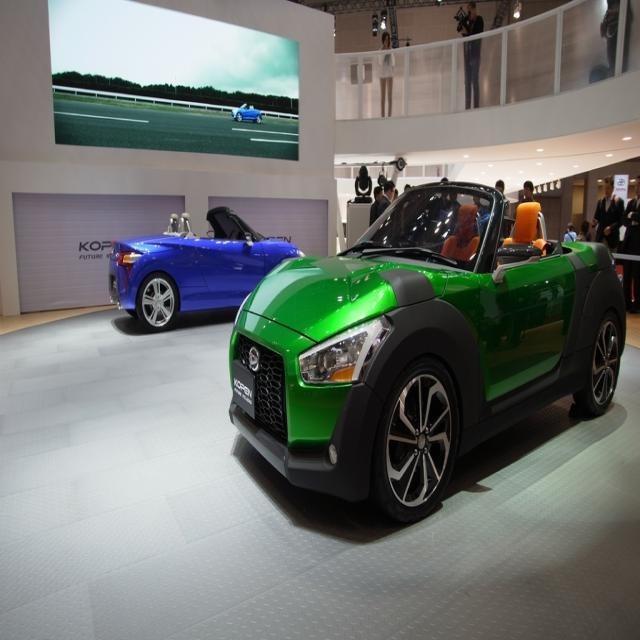car: (227, 175, 626, 523)
